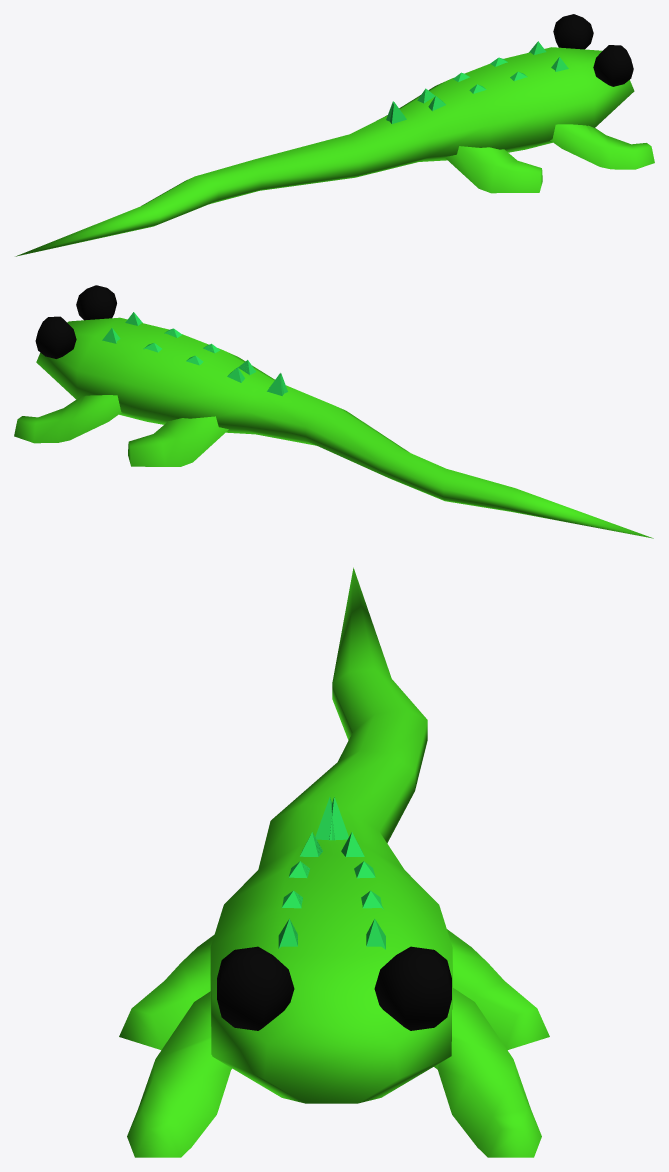
Rendered from Corpse.fbx.
3 views of the same model, one above another, from view 1: azimuth 30°, elevation 25°; view 2: azimuth 150°, elevation 25°; view 3: azimuth 270°, elevation 25° (orthographic). The views are drawn at different scales.
Parts seen in each view (by area): view 1: Cylinder, Cube.002, Cube.001, Sphere; view 2: Cylinder, Cube.002, Cube.001, Sphere; view 3: Cylinder, Cube.001, Sphere, Cube.002, Cube.012, Cube.008.
Part boxes in pixels (x1,y1,x2,y2): Cylinder: (15, 47, 634, 256); Cube.002: (445, 146, 542, 193); Cube.001: (550, 124, 654, 169); Sphere: (553, 14, 633, 86); Cylinder: (36, 317, 653, 538); Cube.002: (128, 416, 228, 466); Cube.001: (14, 395, 121, 443); Sphere: (35, 285, 116, 358); Cylinder: (210, 567, 452, 1103); Cube.001: (127, 987, 541, 1157); Sphere: (217, 946, 451, 1030); Cube.002: (119, 929, 549, 1050); Cube.012: (315, 797, 348, 840); Cube.008: (278, 918, 385, 949).
Bounding box in the file's own units: 1007 × 3247 × 506.
